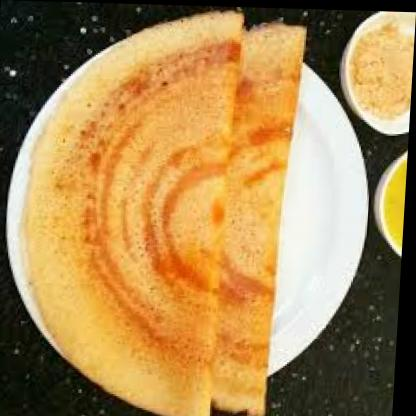dosa: (14, 1, 244, 416), (196, 22, 306, 416)
